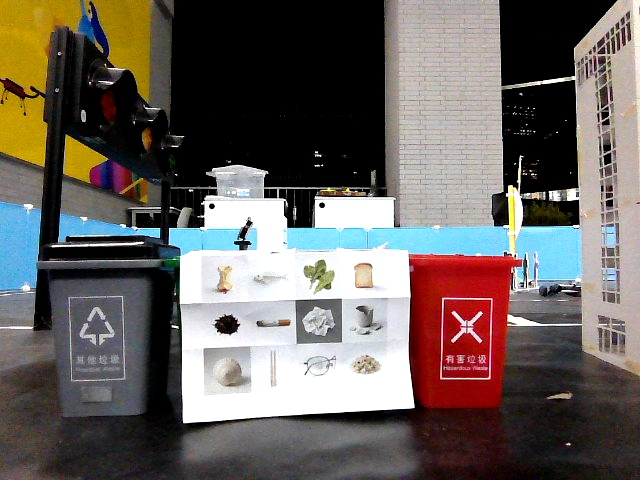food_trash: (298, 256, 340, 299), (249, 258, 292, 300), (204, 257, 244, 301), (343, 257, 388, 296), (205, 305, 246, 346), (344, 344, 386, 382)
other_trash: (205, 349, 251, 394), (342, 299, 386, 343), (251, 303, 296, 345), (296, 345, 341, 385), (252, 347, 293, 389), (299, 300, 340, 340)
